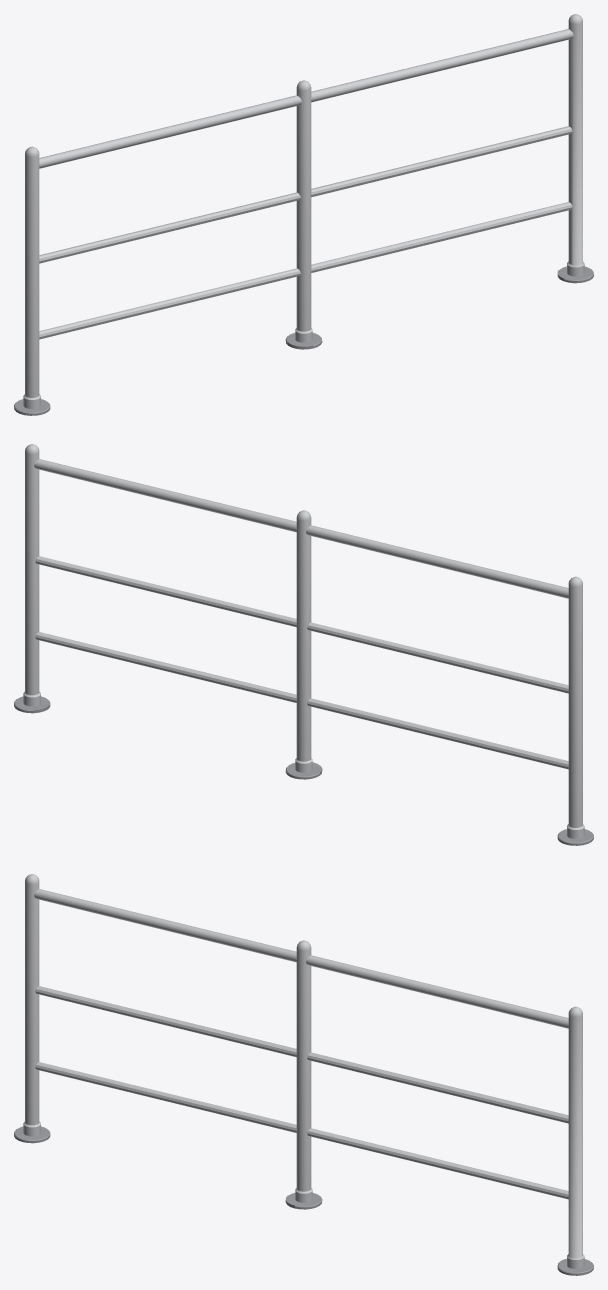
The model's file is gteki_barrier_rail_2400_rails.glb.
3 views of the same model, one above another, from view 1: azimuth 30°, elevation 25°; view 2: azimuth 150°, elevation 25°; view 3: azimuth 330°, elevation 25° (orthographic).
Visible parts, largest first — view 1: VIS_rails, VIS_posts; view 2: VIS_rails, VIS_posts; view 3: VIS_rails, VIS_posts.
Part boxes in pixels (x1,y1,x2,y2): VIS_rails: (39, 29, 573, 339); VIS_posts: (14, 14, 593, 415); VIS_rails: (34, 459, 568, 769); VIS_posts: (14, 444, 593, 845); VIS_rails: (34, 889, 568, 1199); VIS_posts: (14, 874, 593, 1275).
Size of what is drawn, in the model's own units: 2.54 by 1.1 by 0.14.
Materials: 2 (1 with a texture image).
